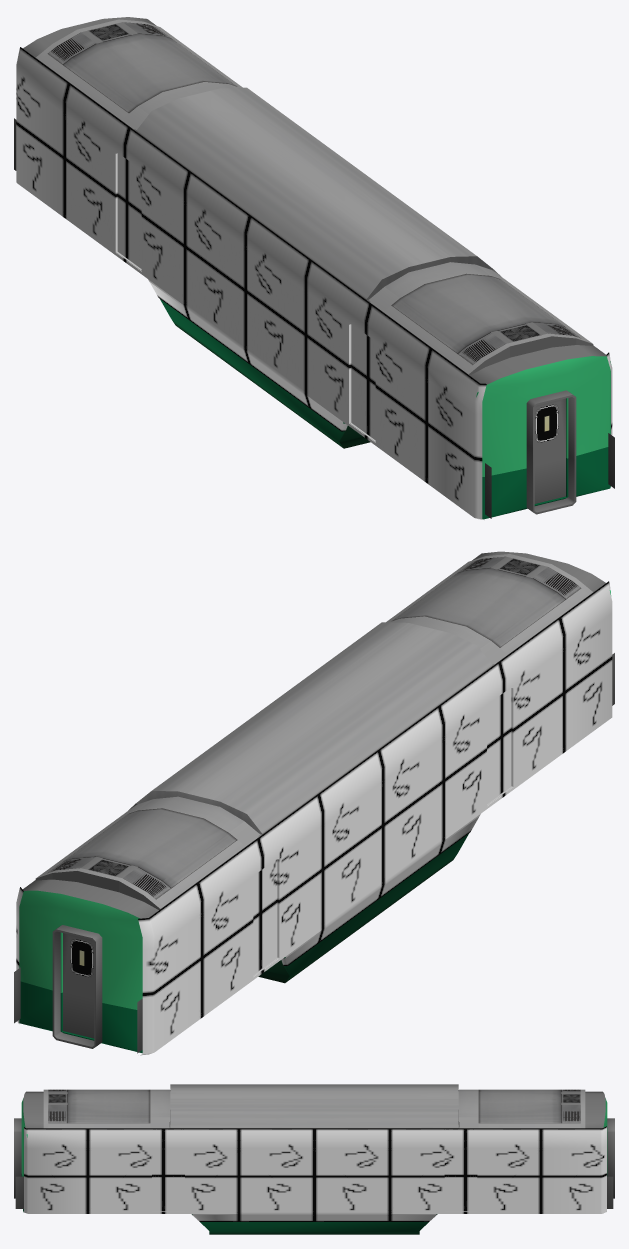
The picture shows the model from 3 angles, top to bottom: view 1: azimuth 30°, elevation 25°; view 2: azimuth 150°, elevation 25°; view 3: azimuth 270°, elevation 25°; orthographic projection. The views are drawn at different scales.
Visible parts, largest first — view 1: in, obj5, obj4, obj6, obj10, obj9, obj7, MI, MI_END; view 2: in, obj4, obj5, obj9, MI_END, obj7, obj6, obj10, MI; view 3: in, obj5, obj4, obj6, obj9, obj7, obj10, MI_END, MI.
Part boxes in pixels (x1,y1,x2,y2): in: (14, 17, 614, 519); obj5: (245, 215, 310, 408); obj4: (185, 171, 249, 364); obj6: (306, 259, 370, 438); obj10: (64, 82, 129, 261); obj9: (125, 127, 189, 319); obj7: (366, 304, 430, 482); MI: (426, 347, 612, 520); MI_END: (16, 47, 68, 217); in: (14, 551, 614, 1053); obj4: (318, 750, 383, 942); obj5: (379, 706, 443, 898); obj9: (258, 794, 322, 972); MI_END: (16, 882, 202, 1055); obj7: (499, 617, 564, 796); obj6: (439, 661, 503, 854); obj10: (198, 838, 262, 1017); MI: (560, 581, 612, 752); in: (14, 1084, 614, 1234); obj5: (239, 1128, 314, 1221); obj4: (314, 1128, 389, 1221); obj6: (163, 1128, 238, 1221); obj9: (390, 1128, 465, 1221); obj7: (88, 1128, 163, 1213); obj10: (465, 1128, 540, 1213); MI_END: (541, 1126, 606, 1213); MI: (24, 1127, 87, 1213).
Size of the model in its own units: 6.59 by 8.97 by 39.79.
30 materials, 28 textured.
